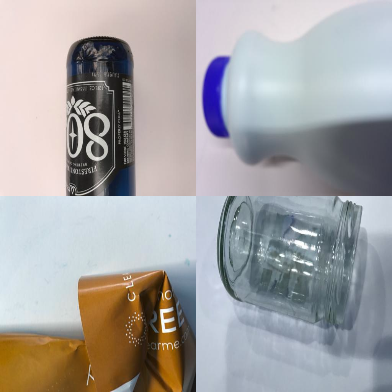glass: (216, 196, 364, 330), (66, 36, 138, 195)
paper: (1, 270, 195, 392)
plastic: (202, 1, 392, 195)
